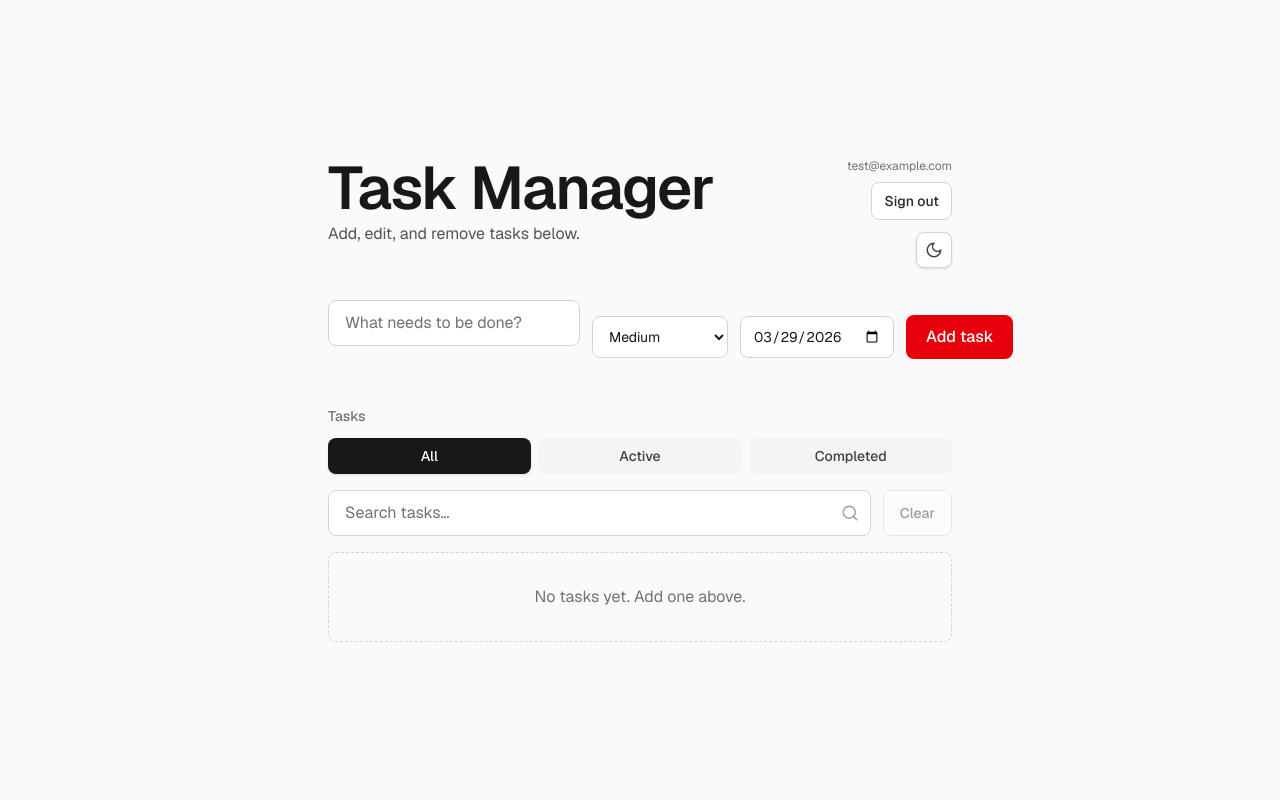
Scenario: Home task manager › deletes a task after confirming in dialog
Type "Read docs" into the field named "Task title" at (454, 323), box [328, 300, 580, 346]
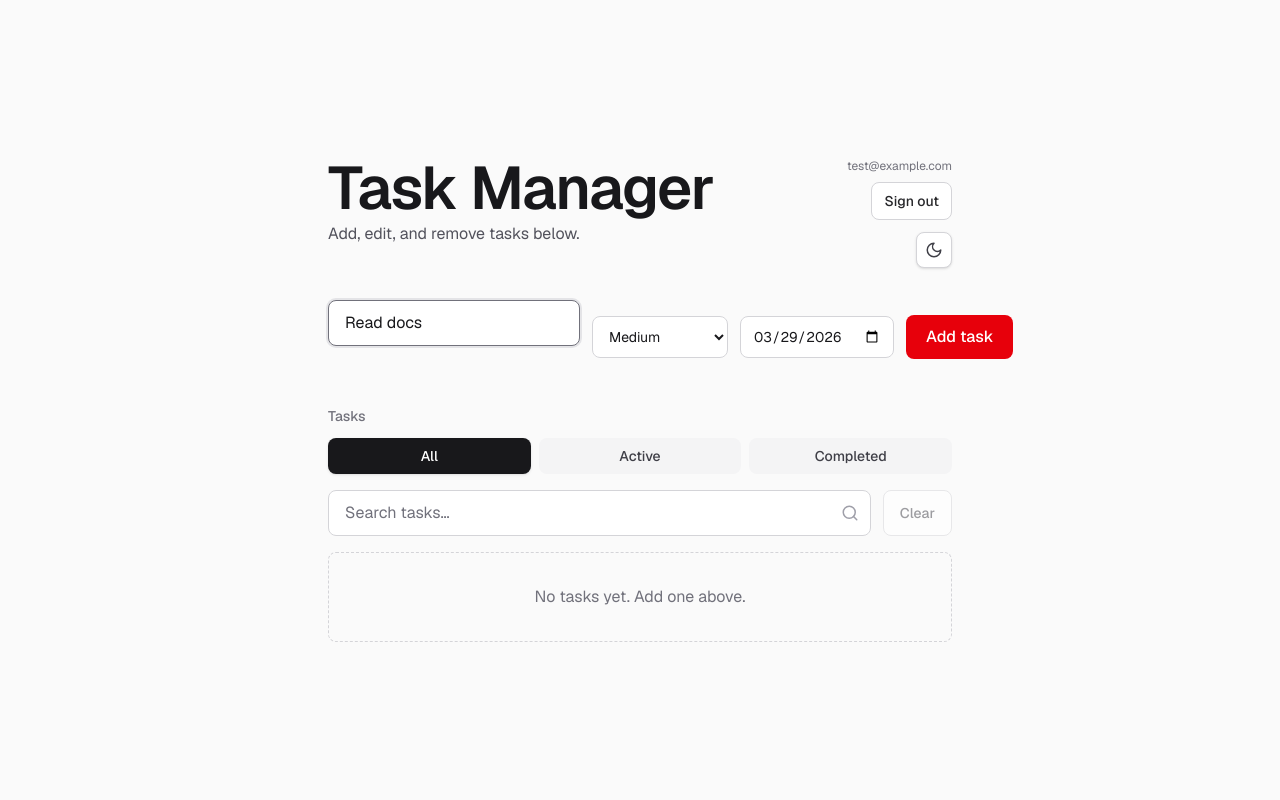
Click the button "Add task" at (960, 337), box [906, 315, 1013, 359]
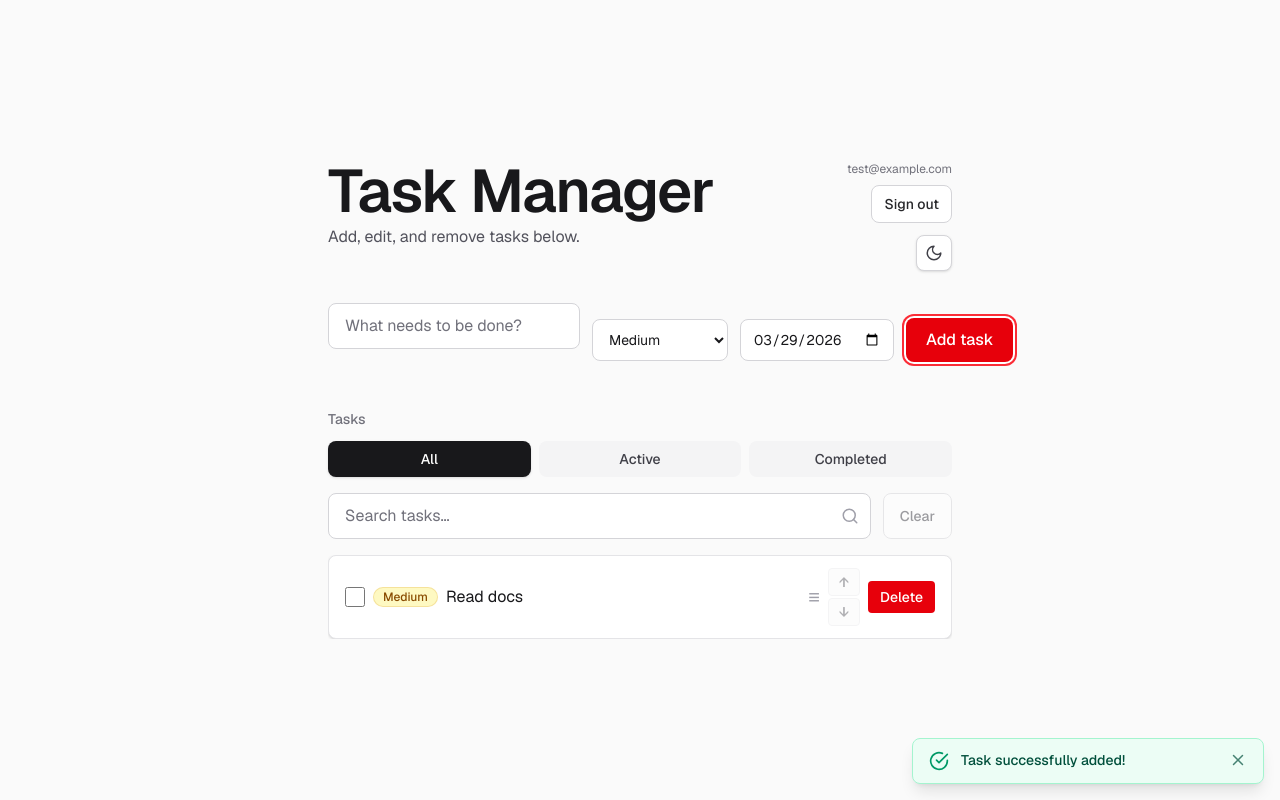
Check: the button "Read docs" is shown, box [446, 586, 523, 607]
Click the button with aria-label "Delete task" at (901, 597), box [868, 581, 935, 613]
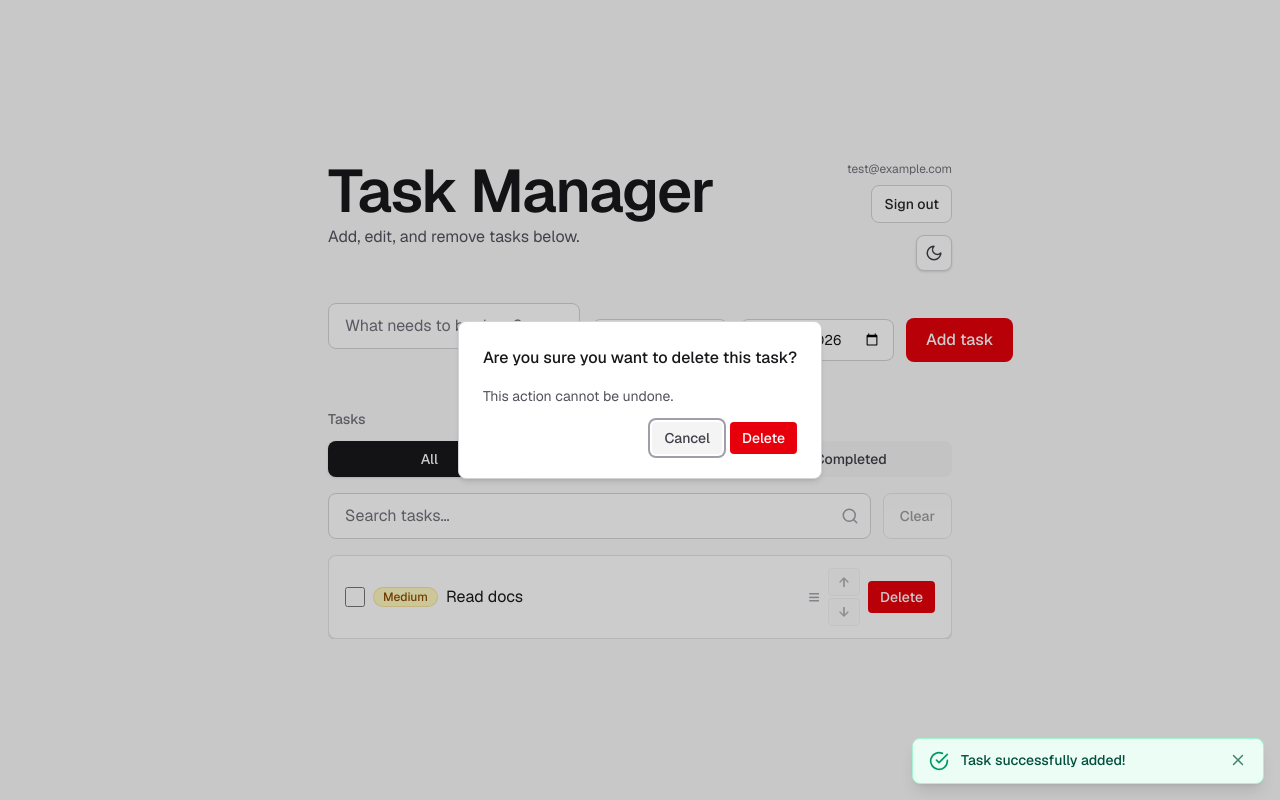
Click the button "Delete" at (764, 438), box [730, 422, 797, 454]
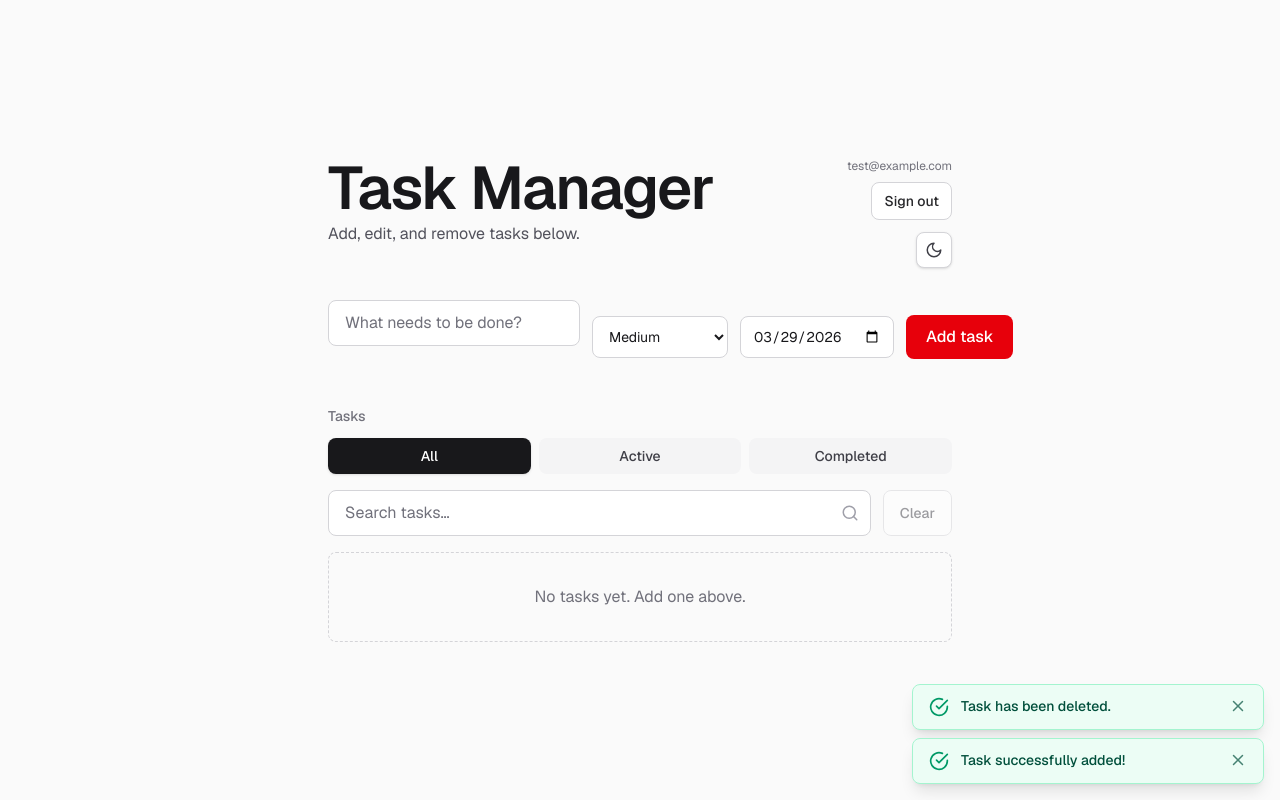
Check: the text "Task has been deleted." is shown, box [961, 697, 1111, 715]
Check: the button "Read docs" is gone
